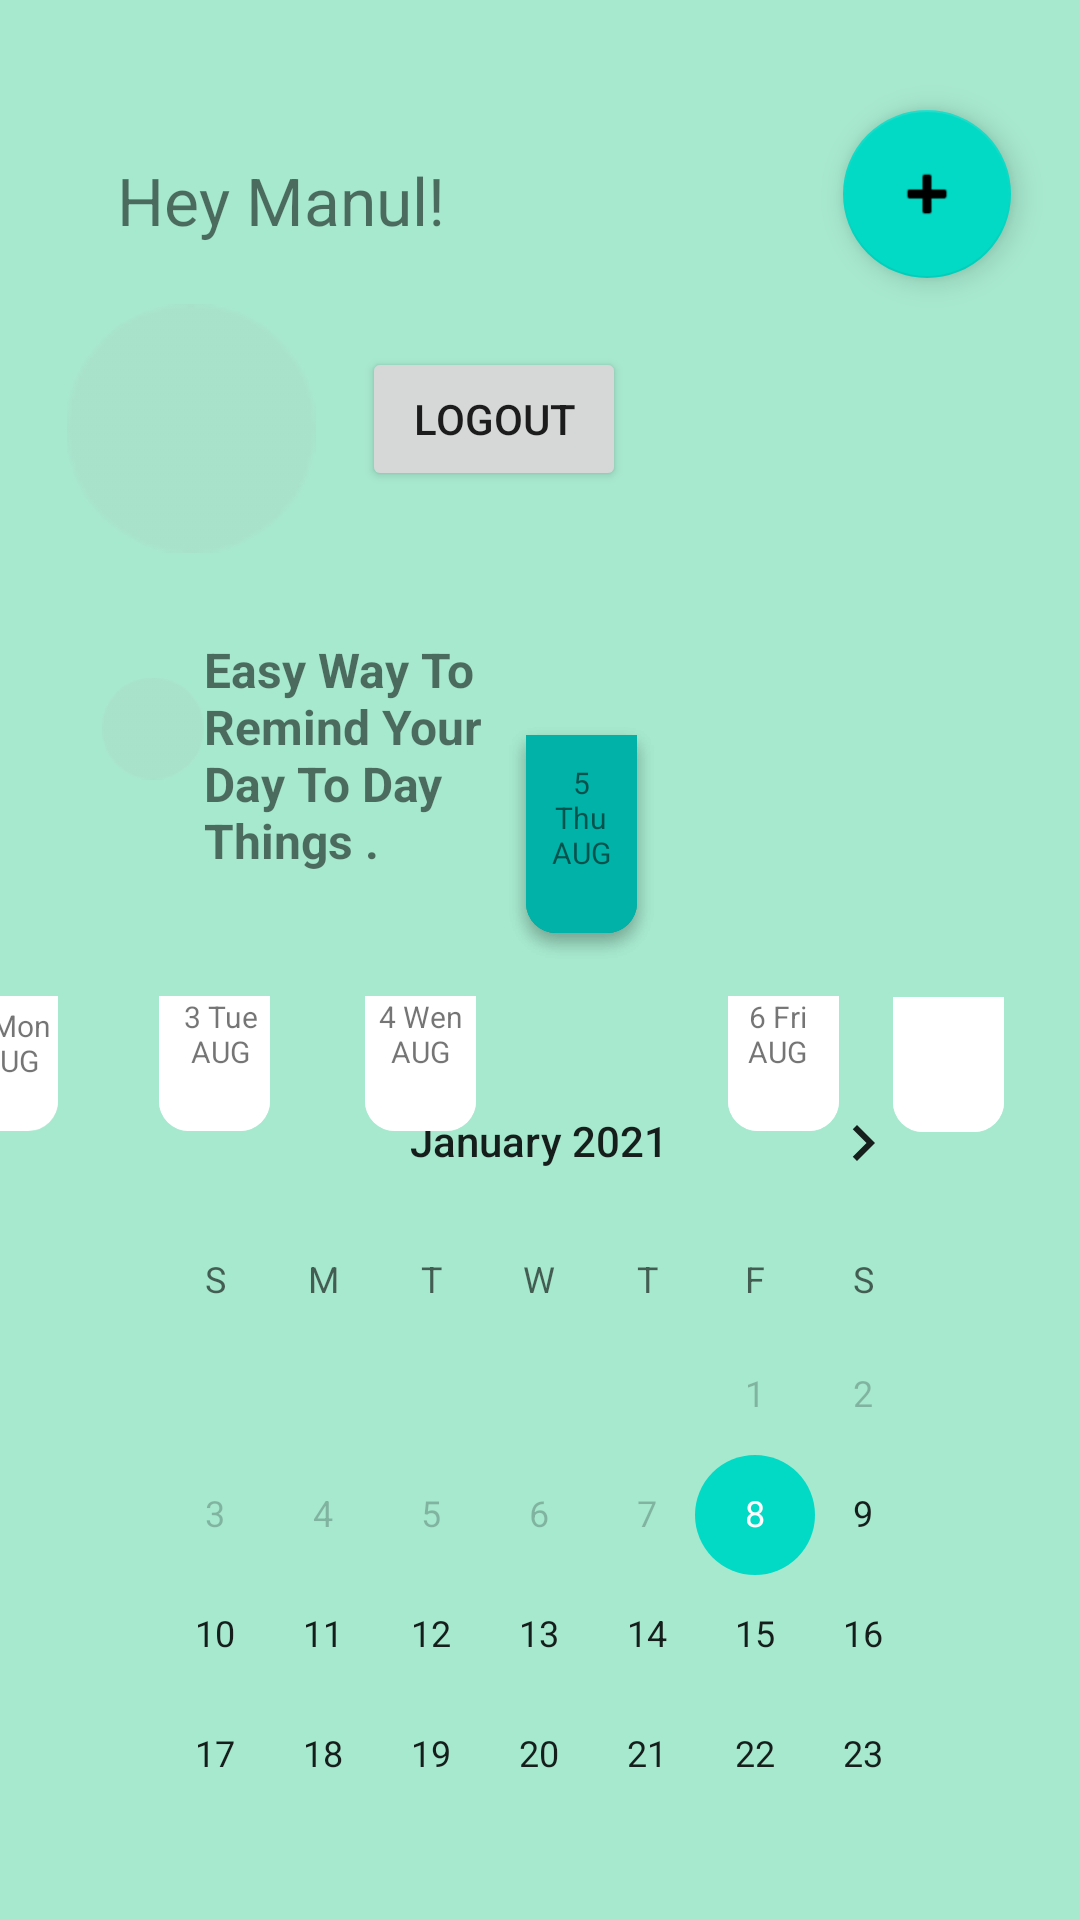

Icon bounding boxes for this 1080*1920 phone screenshot, format (x1, y1, x2, y2):
add: (843, 110, 1011, 278)
